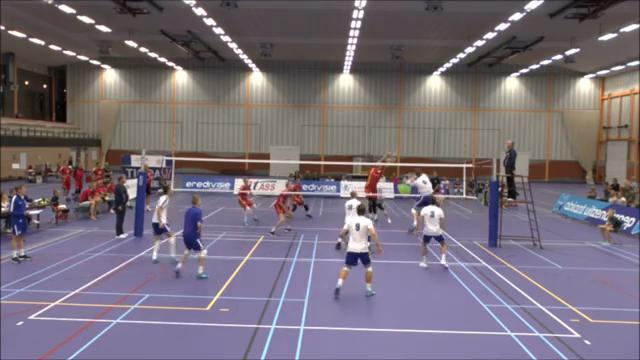attacco: (396, 168, 439, 234)
muro: (365, 148, 397, 223)
